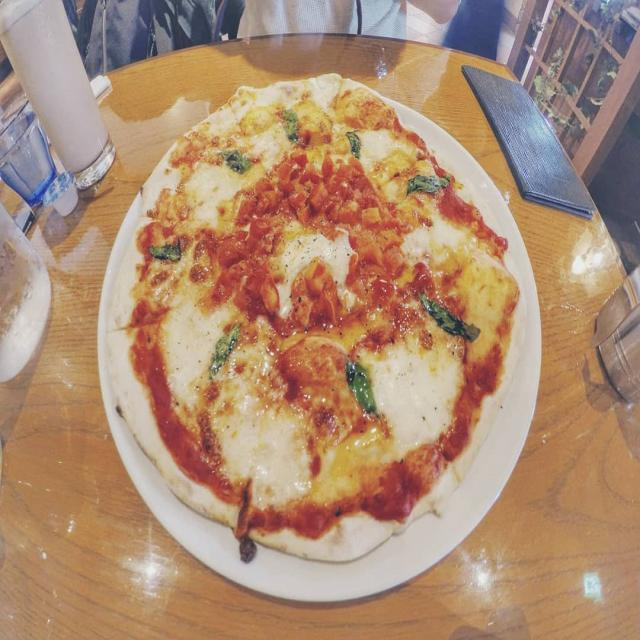basil: (418, 293, 482, 344), (343, 356, 382, 421), (209, 325, 243, 377), (409, 174, 451, 196), (282, 105, 302, 146), (224, 151, 255, 175), (150, 243, 184, 264), (348, 133, 364, 157)
pizza: (104, 70, 528, 562)
tomatoes: (258, 274, 286, 314), (241, 227, 273, 258), (372, 224, 410, 250), (308, 177, 332, 215), (317, 280, 338, 322), (291, 290, 315, 326), (215, 272, 243, 302), (356, 239, 387, 266), (242, 266, 268, 298), (351, 174, 377, 206), (371, 273, 394, 306), (216, 237, 241, 266), (277, 158, 300, 188), (383, 249, 409, 274), (280, 185, 310, 206), (306, 260, 328, 288), (290, 202, 314, 226), (258, 188, 280, 214), (238, 198, 257, 227), (346, 252, 364, 282), (339, 161, 362, 181), (327, 201, 344, 223), (361, 206, 381, 224), (250, 217, 270, 234), (323, 154, 335, 182), (340, 201, 358, 219), (334, 180, 350, 197)
